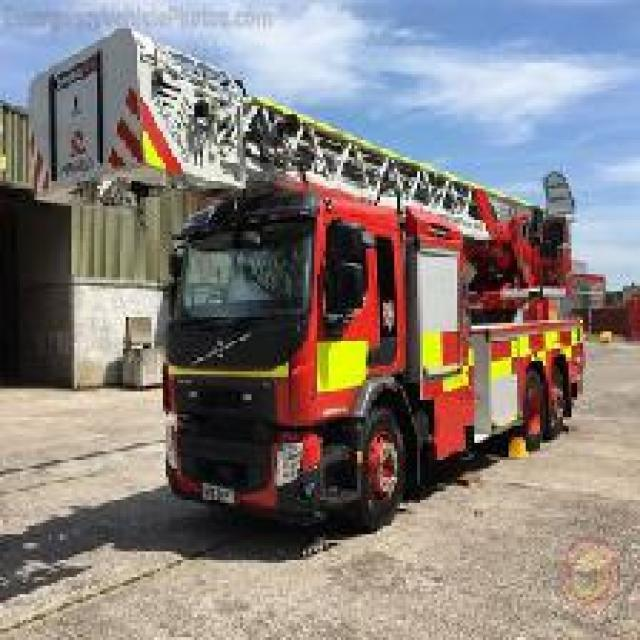emergency: (158, 170, 588, 534)
